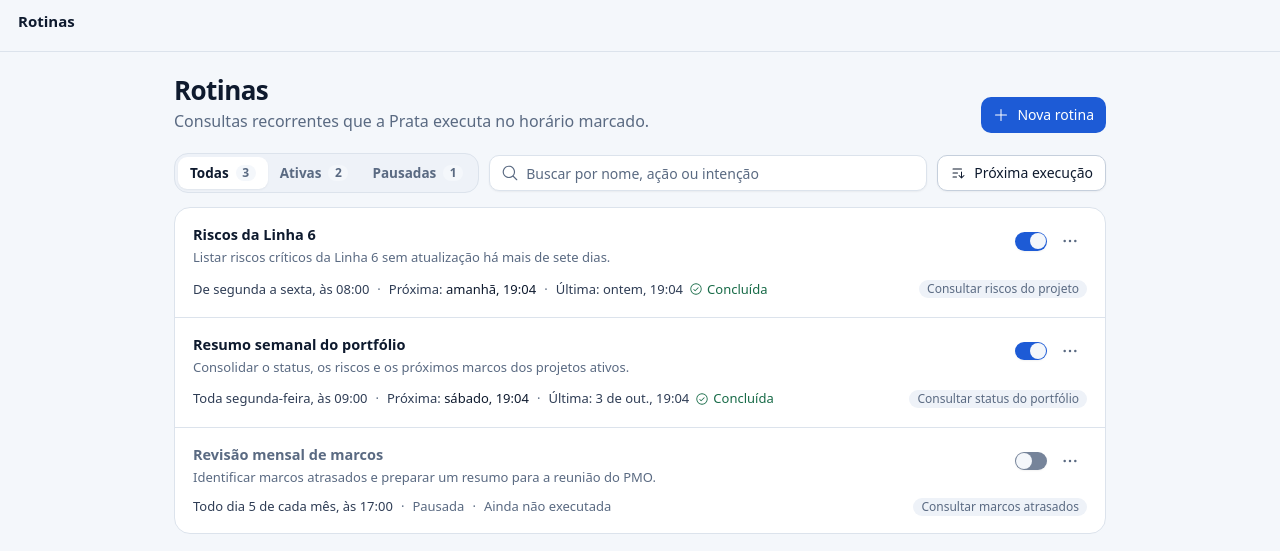
Test: Página de rotinas › filtra as rotinas cadastradas
This screenshot has width=1280, height=551.
(page scrolled)
expect the heading "Riscos da Linha 6" is shown: met, box [193,224,316,244]
In the field named "Buscar rotinas": (708, 173) [489,155,927,191], type "mensal"
(page scrolled)
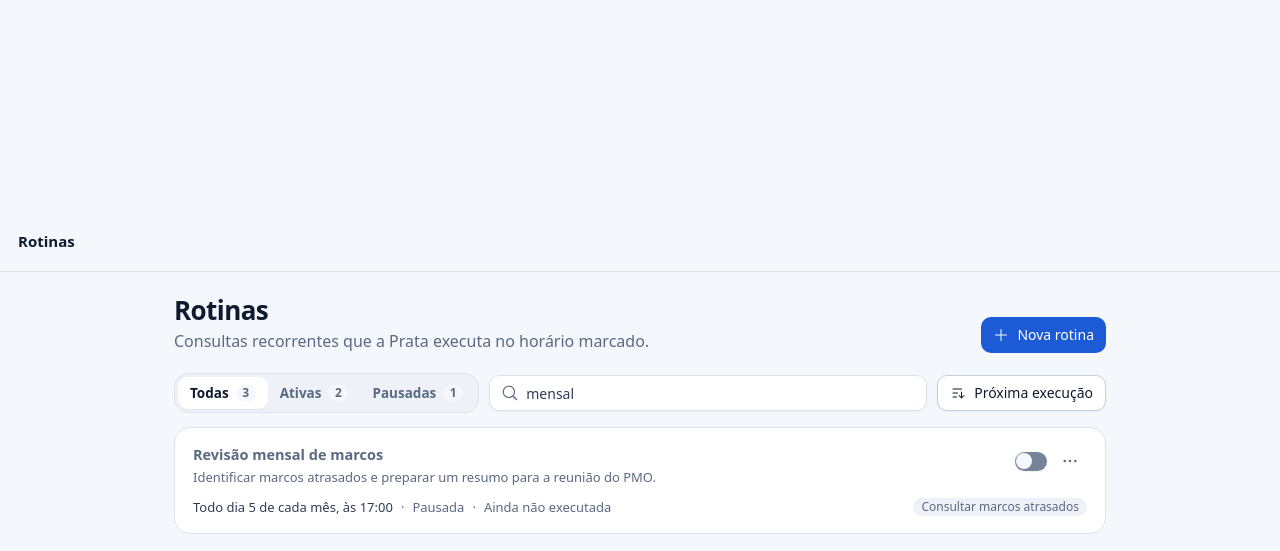
expect the heading "Revisão mensal de marcos" is shown: met, box [193,444,383,464]
expect the heading "Riscos da Linha 6" is gone: met
